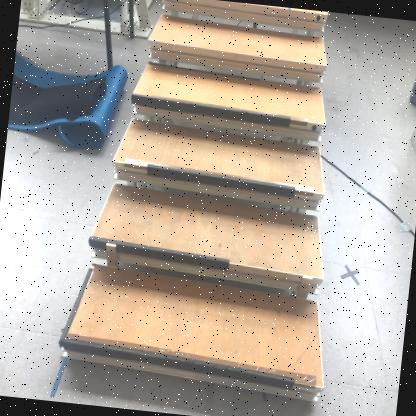Stairs: (63, 264, 321, 404), (90, 184, 323, 305), (113, 119, 326, 214), (132, 65, 326, 142), (149, 15, 328, 83), (164, 1, 328, 33)
